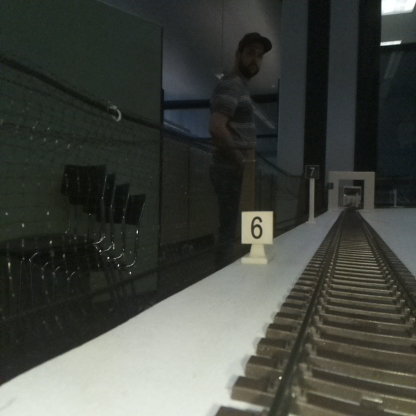black-info-7: (305, 164, 319, 222)
white-stop-6: (241, 210, 272, 265)
